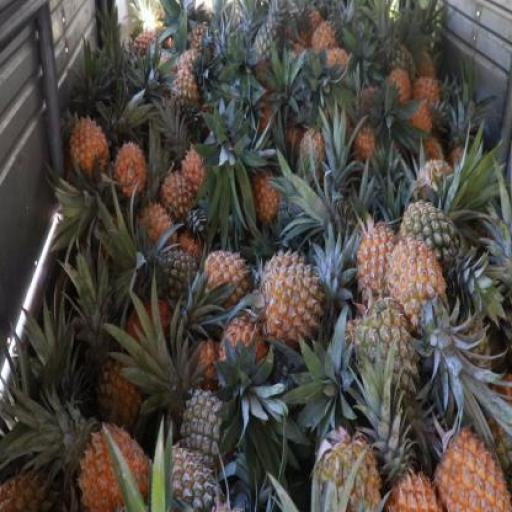------------------------------: (356, 305, 424, 406), (400, 201, 464, 299), (98, 354, 149, 430), (170, 69, 202, 127)
Pineapple - v8 v1: (76, 424, 153, 511), (388, 240, 450, 342), (261, 252, 324, 346), (436, 430, 510, 510), (356, 229, 406, 317), (222, 320, 270, 399), (206, 248, 249, 305), (71, 115, 110, 175), (162, 171, 200, 218), (116, 144, 146, 203)
